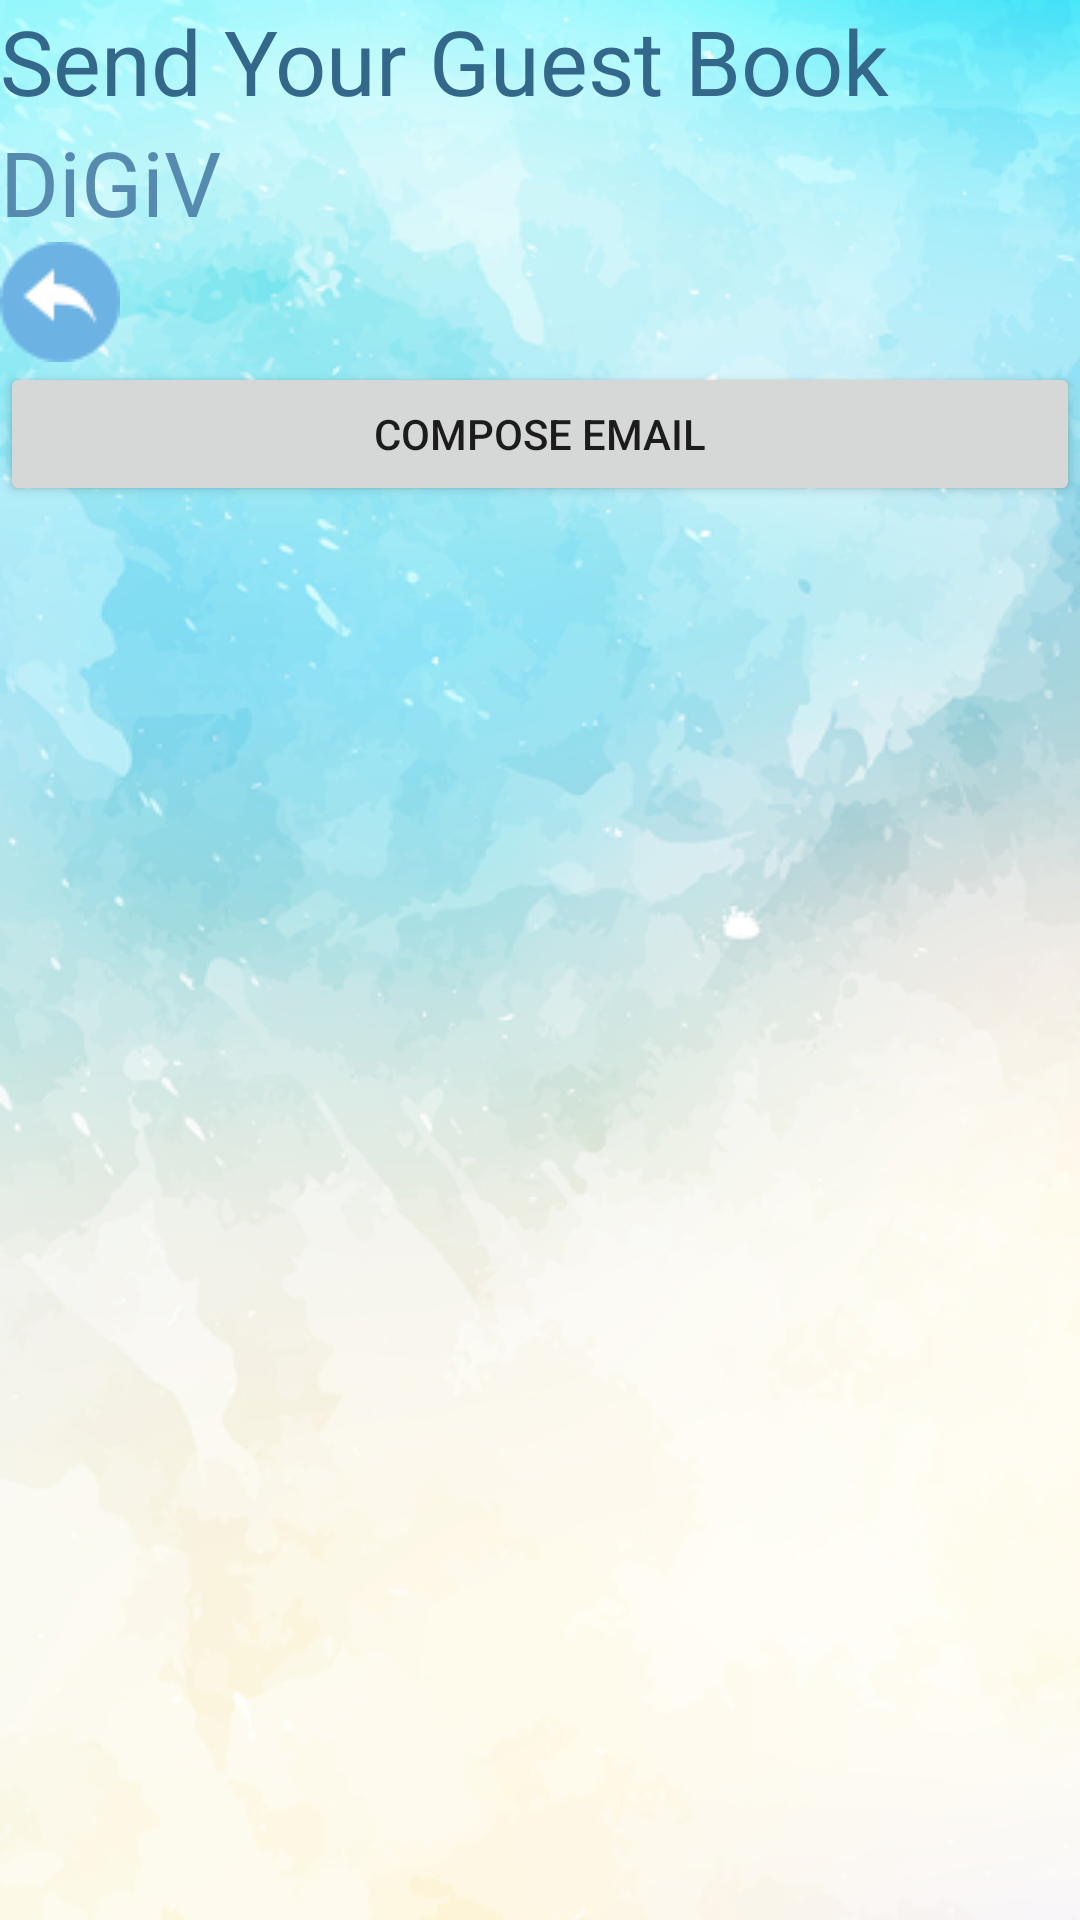

Point at icon controls on the screen. Image size 1080w x 1920h, points as [x,y].
back: [60,302]
